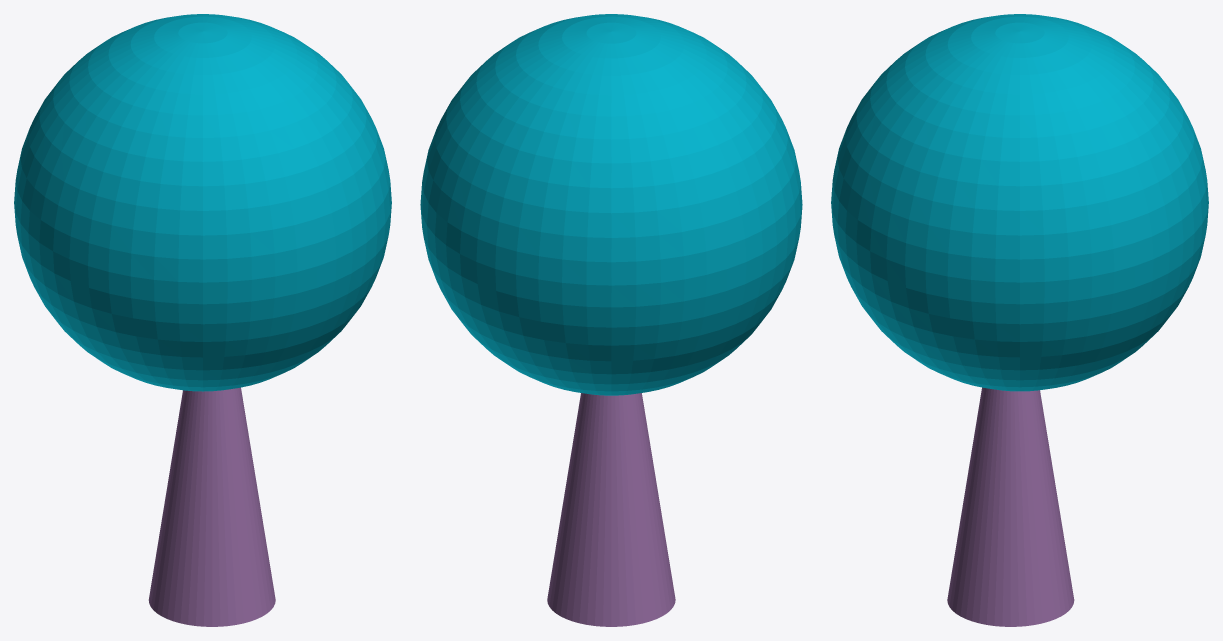
The model's file is Copy of M - Your Name - Type of Food.glb.
3 renders of one model, left to right at view 1: azimuth 30°, elevation 25°; view 2: azimuth 150°, elevation 25°; view 3: azimuth 270°, elevation 25°, orthographic.
Parts seen in each view (by area): view 1: Mesh_Mesh_head_geo.001_lambert2SG.001; view 2: Mesh_Mesh_head_geo.001_lambert2SG.001; view 3: Mesh_Mesh_head_geo.001_lambert2SG.001.
Boxes of the visible parts, x1=… form: Mesh_Mesh_head_geo.001_lambert2SG.001: x1=14, y1=14, x2=391, y2=626; Mesh_Mesh_head_geo.001_lambert2SG.001: x1=420, y1=14, x2=802, y2=626; Mesh_Mesh_head_geo.001_lambert2SG.001: x1=831, y1=14, x2=1208, y2=626.
Bounding box in the file's own units: 0.026 × 0.043 × 0.026.
